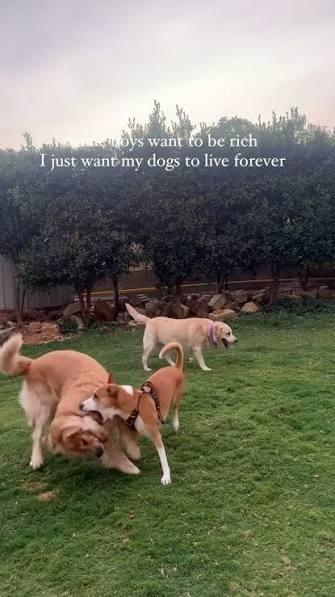adult_dog: (0, 332, 140, 476), (80, 342, 186, 485), (125, 303, 238, 371)
